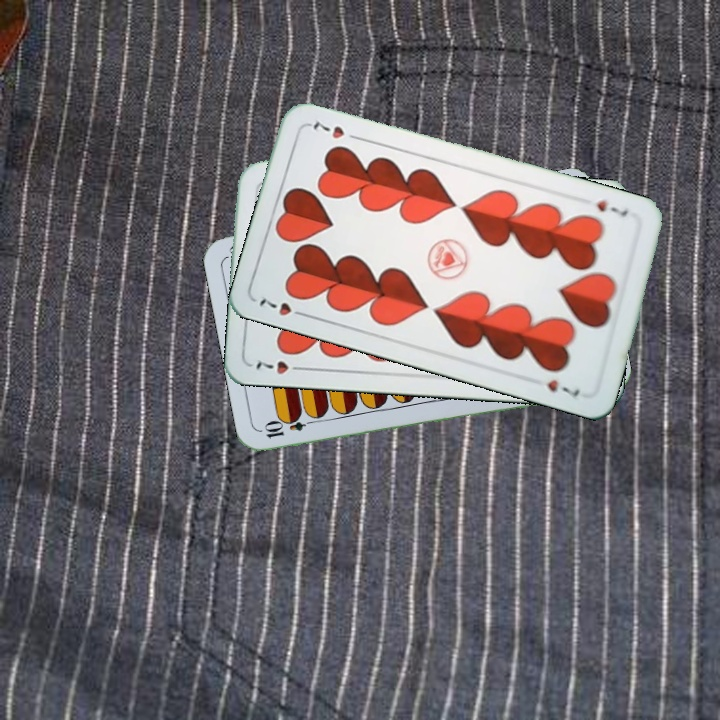E10: (260, 413, 319, 441)
H7: (254, 295, 311, 320), (252, 355, 308, 377), (593, 196, 630, 220)
